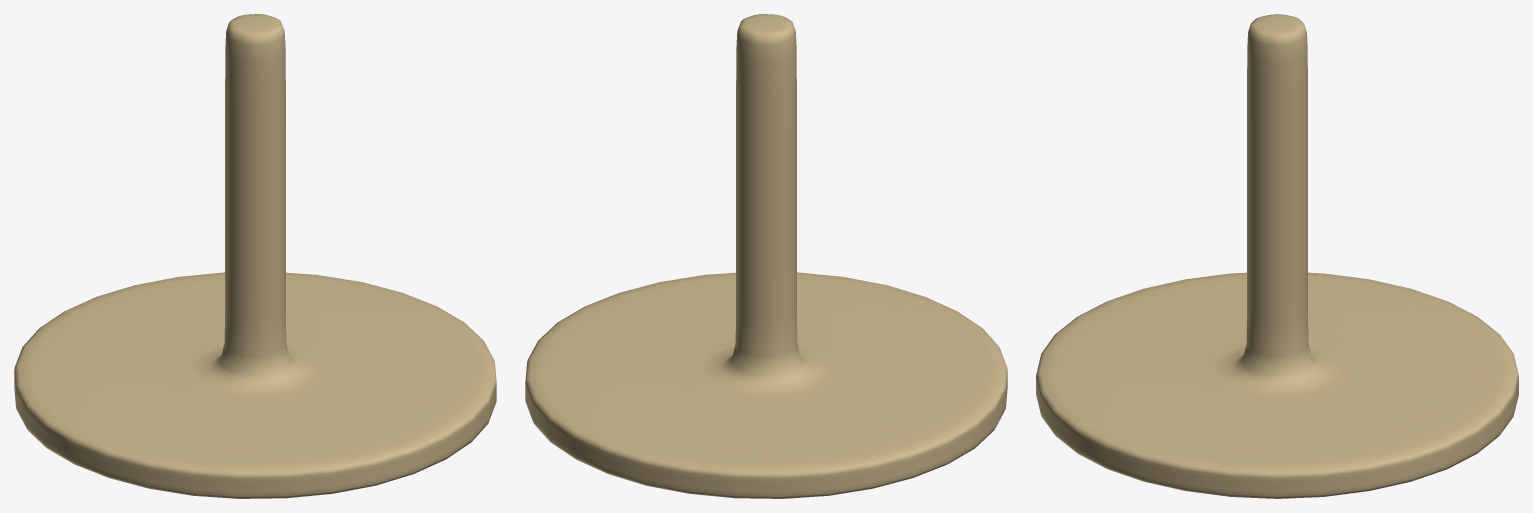
Rendered from PaloDonuts.fbx.
The picture shows the model from 3 angles, left to right: view 1: azimuth 30°, elevation 25°; view 2: azimuth 150°, elevation 25°; view 3: azimuth 270°, elevation 25°; orthographic projection.
Visible parts, largest first — view 1: Donuts; view 2: Donuts; view 3: Donuts.
Part boxes in pixels (box(x1,y1,x2,y2)): Donuts: box(14, 14, 496, 498); Donuts: box(525, 14, 1007, 498); Donuts: box(1036, 14, 1518, 498).
Size of the model in its own units: 0.5175 by 0.5175 by 0.446.
